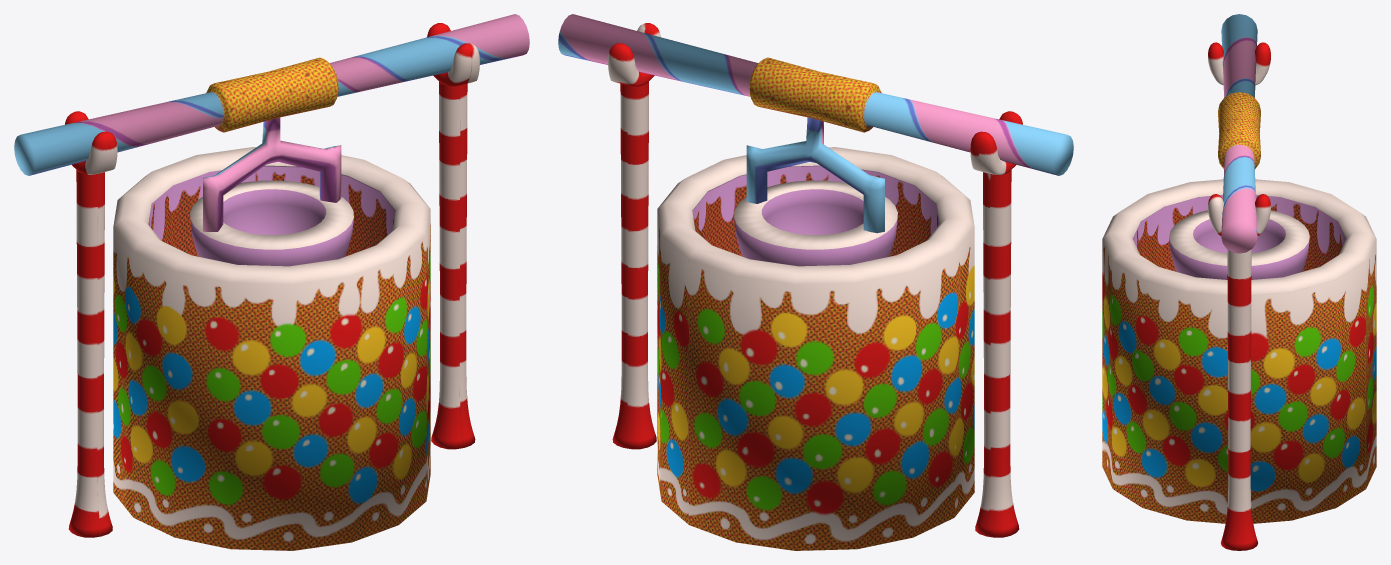
File: puit.fbx
The picture shows the model from 3 angles, left to right: view 1: azimuth 30°, elevation 25°; view 2: azimuth 150°, elevation 25°; view 3: azimuth 270°, elevation 25°; orthographic projection. The views are drawn at different scales.
Visible parts, largest first — view 1: puit; view 2: puit; view 3: puit.
Boxes of the visible parts, left/top/right/bottom form: puit: left=14, top=14, right=529, bottom=550; puit: left=558, top=14, right=1073, bottom=550; puit: left=1102, top=14, right=1376, bottom=550.
Bounding box in the file's own units: 357 × 284 × 200.
